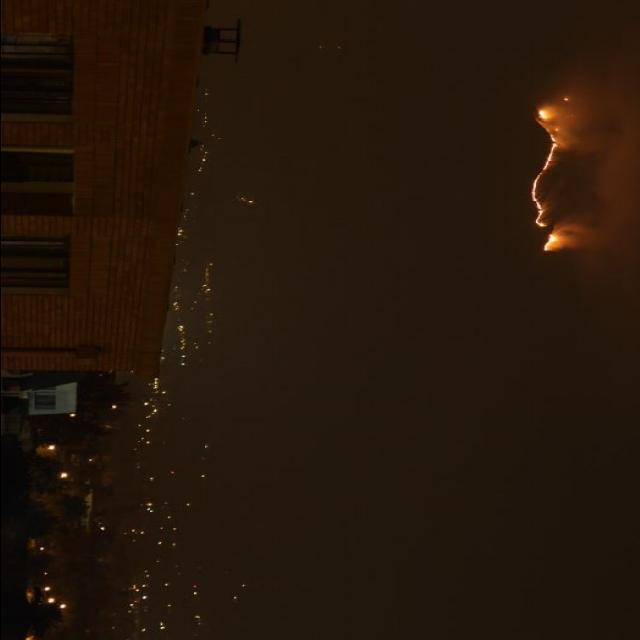Fire: (529, 104, 556, 228), (541, 235, 561, 255)
